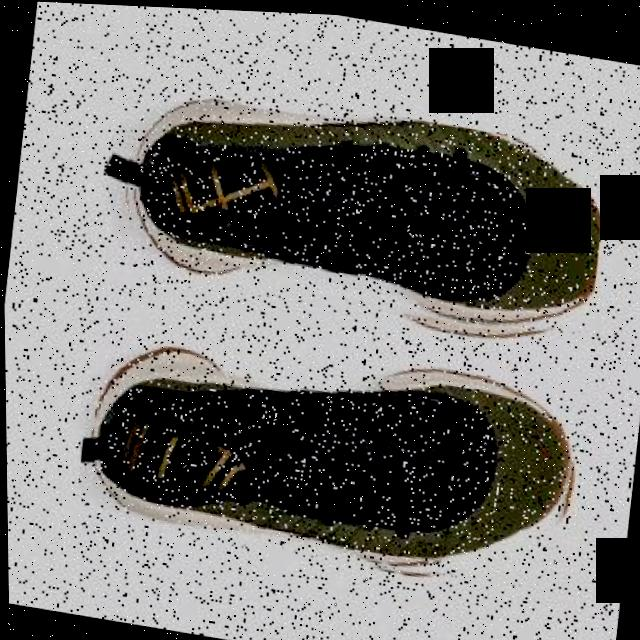shoe: (69, 309, 587, 601), (106, 70, 611, 352)
